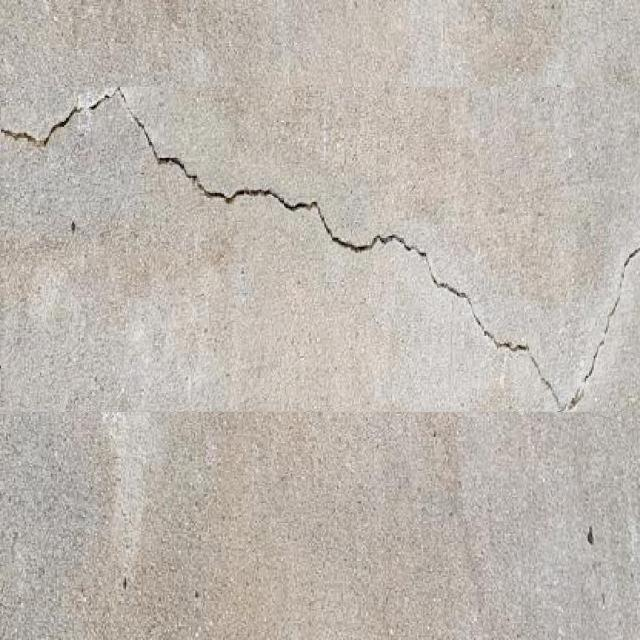diagonal crack: (3, 87, 639, 411)
